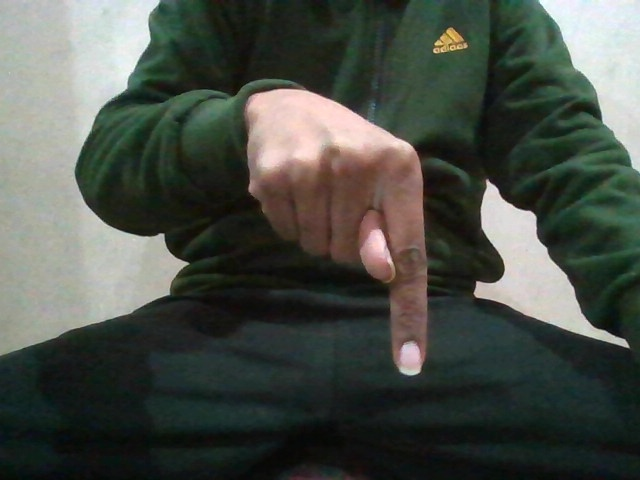Z: (252, 117, 454, 380)
